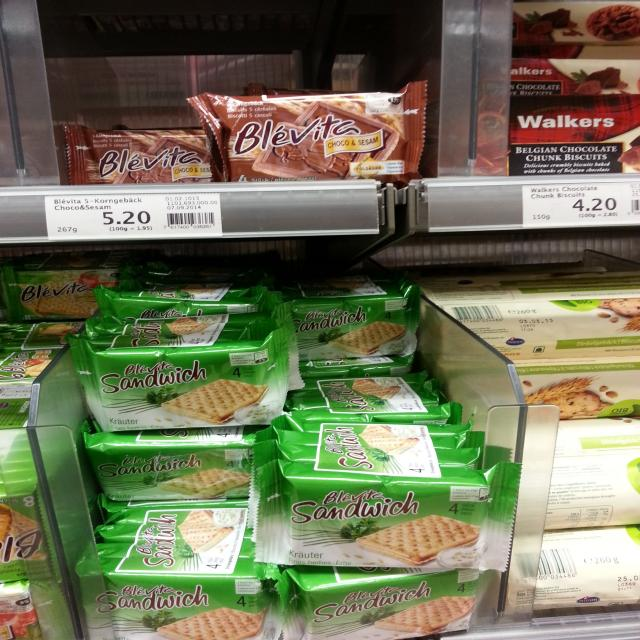Biscuits: (250, 422, 513, 568), (63, 502, 279, 640), (74, 318, 296, 431), (206, 90, 419, 184), (473, 96, 640, 176), (430, 296, 640, 359), (273, 278, 417, 359), (84, 431, 251, 500), (63, 122, 218, 186), (0, 265, 140, 323), (511, 0, 640, 58)
